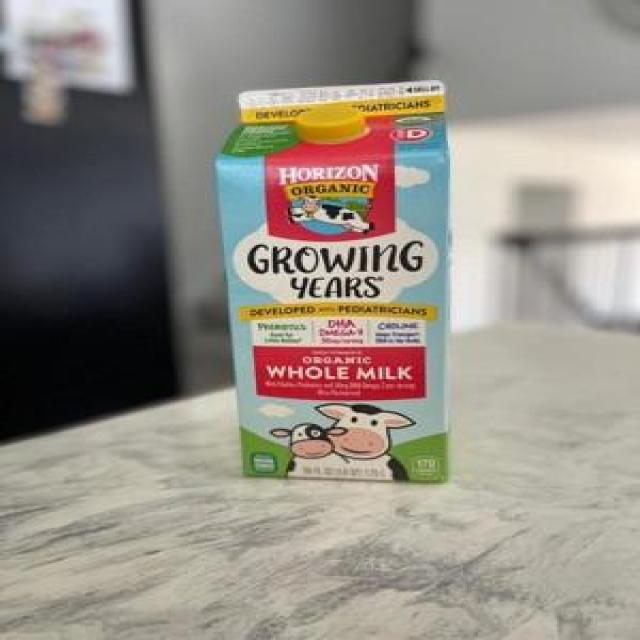drink carton: (213, 80, 454, 484)
plastic bottle cap: (294, 106, 366, 144)
